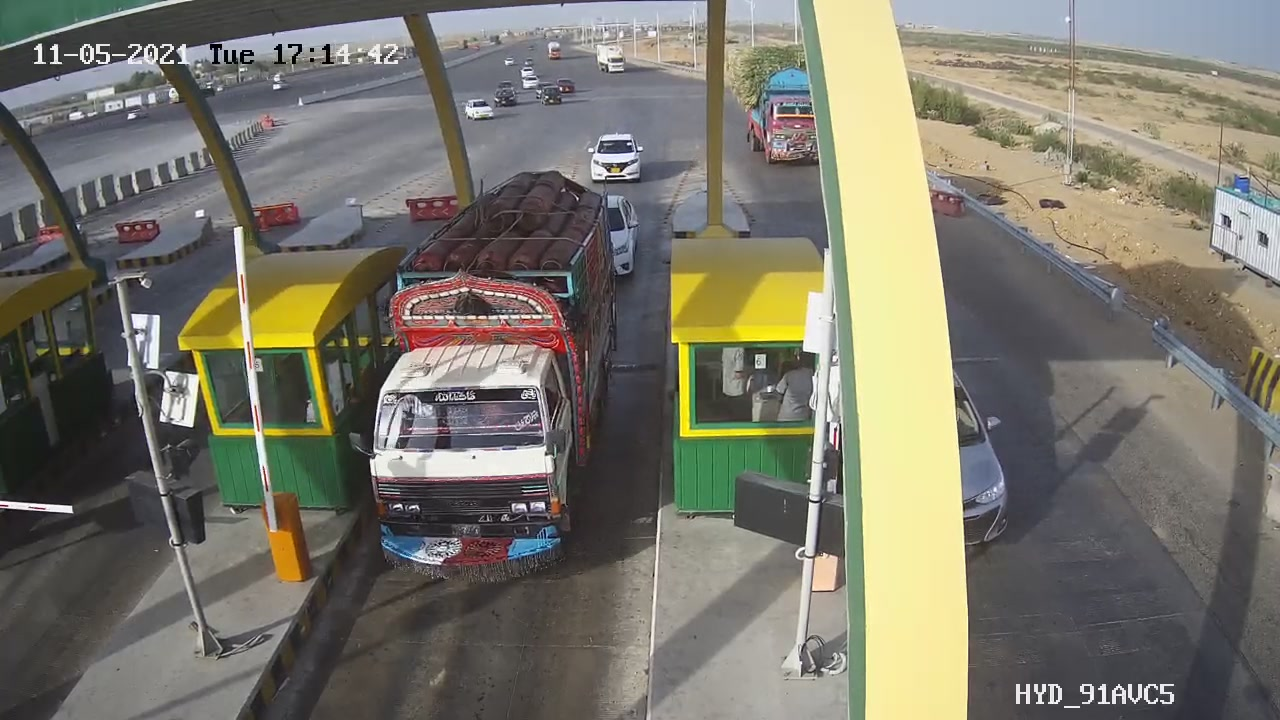F5: (334, 155, 657, 605)
